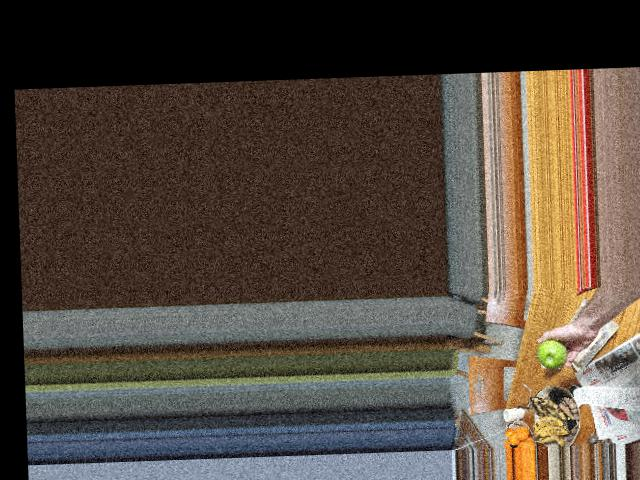apple: (530, 336, 572, 372)
